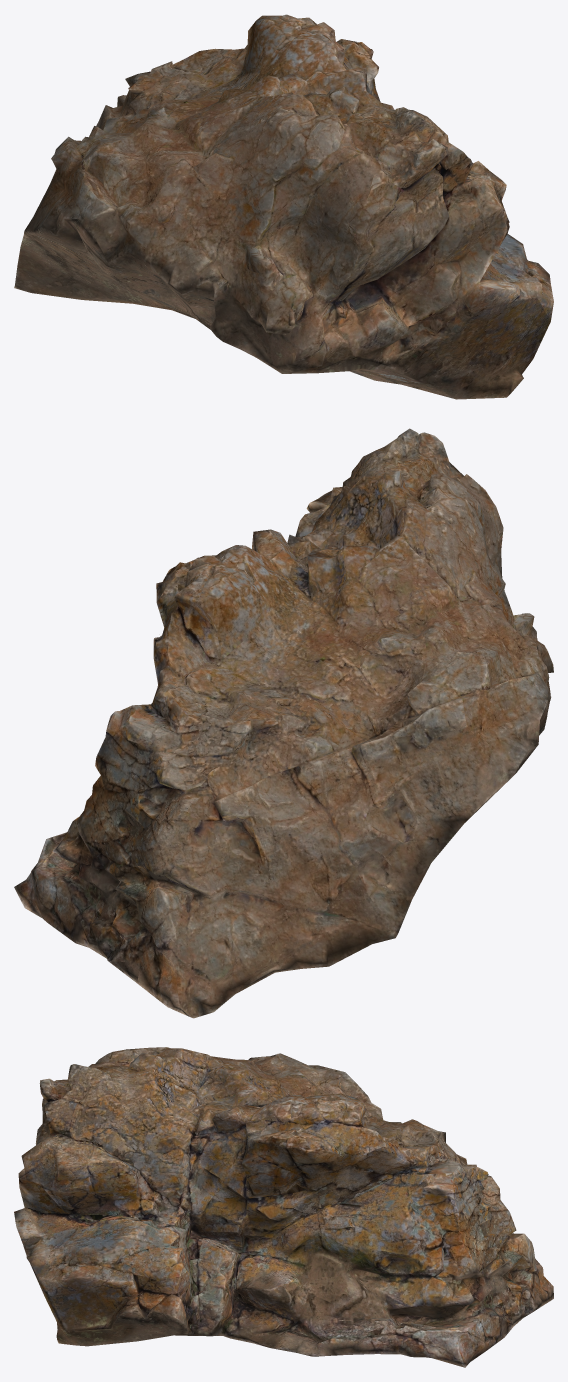
The model's file is rock_c.glb.
The picture shows the model from 3 angles, top to bottom: view 1: azimuth 30°, elevation 25°; view 2: azimuth 150°, elevation 25°; view 3: azimuth 270°, elevation 25°; orthographic projection. The views are drawn at different scales.
Parts seen in each view (by area): view 1: boulder_01; view 2: boulder_01; view 3: boulder_01.
Part boxes in pixels (x1=…): boulder_01: x1=14, y1=14, x2=553, y2=399; boulder_01: x1=14, y1=428, x2=553, y2=1018; boulder_01: x1=14, y1=1047, x2=553, y2=1367.
Bounding box in the file's own units: 1.27 × 1 × 1.82.
Materials: 1 (1 with a texture image).
